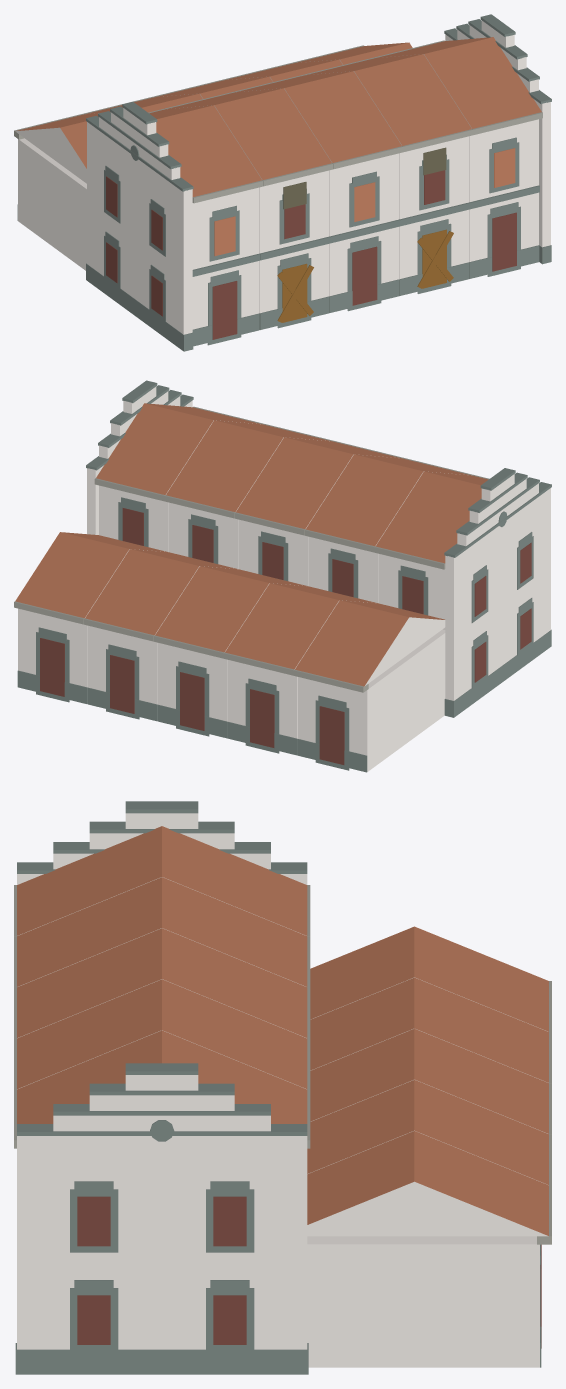
Rendered from SM_EdificioViajerosNules_v2_EnLiberacion_LOD1.fbx.
The picture shows the model from 3 angles, top to bottom: view 1: azimuth 30°, elevation 25°; view 2: azimuth 150°, elevation 25°; view 3: azimuth 270°, elevation 25°; orthographic projection. The views are drawn at different scales.
Parts seen in each view (by area): view 1: SM_edificio_viajeros_nules_v2_LOD1; view 2: SM_edificio_viajeros_nules_v2_LOD1; view 3: SM_edificio_viajeros_nules_v2_LOD1.
Part boxes in pixels (x1,y1,x2,y2): SM_edificio_viajeros_nules_v2_LOD1: [14, 14, 551, 351]; SM_edificio_viajeros_nules_v2_LOD1: [14, 380, 551, 772]; SM_edificio_viajeros_nules_v2_LOD1: [14, 801, 551, 1374].
Size of the model in its own units: 21.12 by 11.24 by 17.8.
